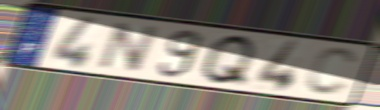4: (254, 37, 302, 95), (51, 13, 95, 71)
9: (156, 28, 202, 80)
C: (303, 45, 360, 98)
N: (93, 20, 163, 74)
Q: (197, 33, 259, 90)
